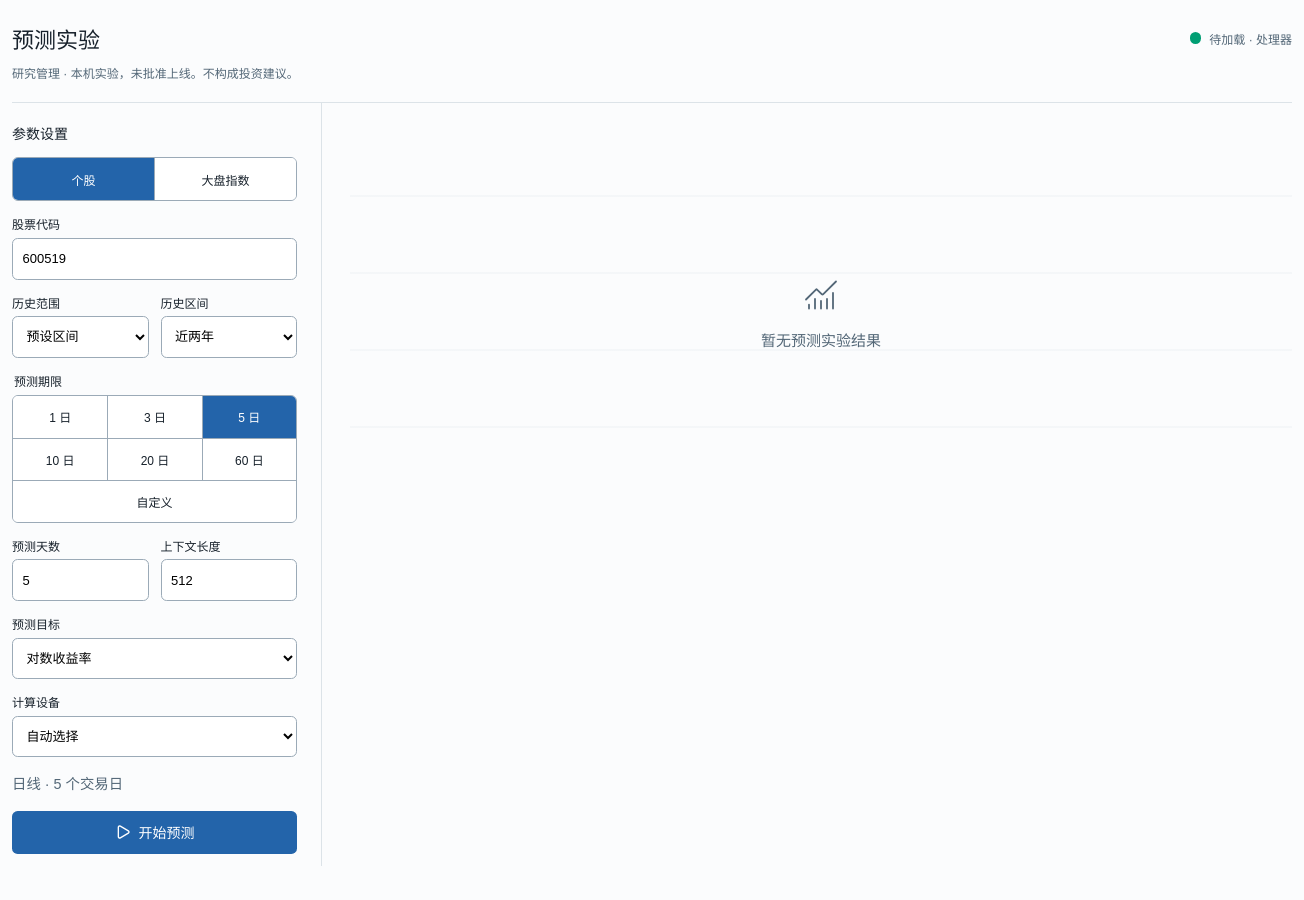
Test case: extracted legacy capabilities on independent pages › disables the forecast action while loading
Step 1. Click the button "开始预测" → [154, 832], box [12,811,297,854]
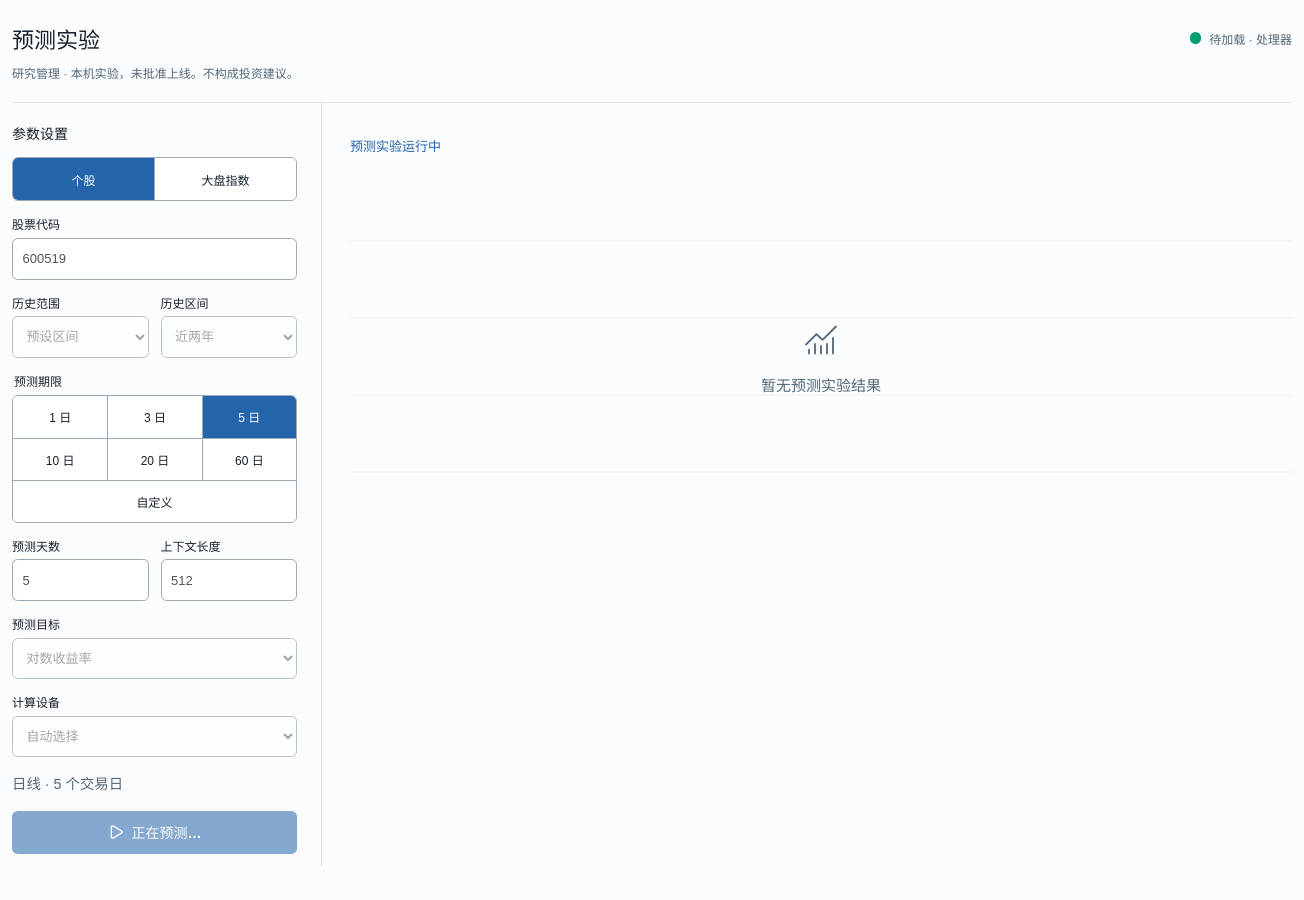
Check: the button "正在预测…" is disabled, box [12,811,297,854]
